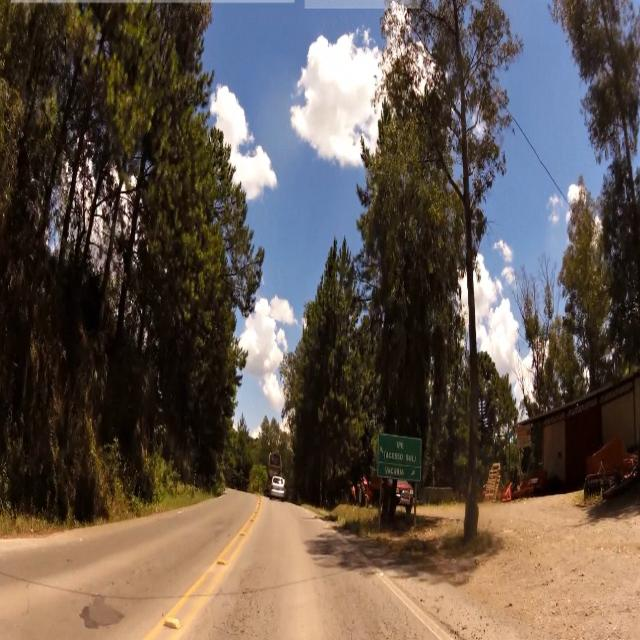I-4: (381, 433, 421, 479)
